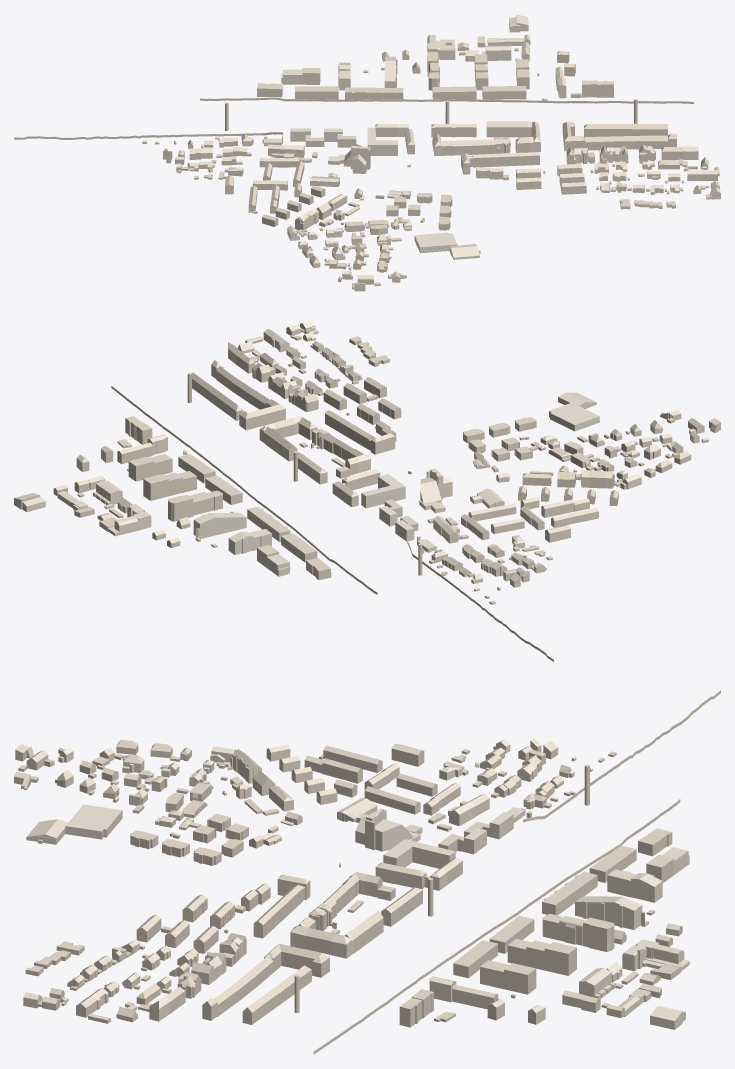
The picture shows the model from 3 angles, top to bottom: view 1: azimuth 30°, elevation 25°; view 2: azimuth 150°, elevation 25°; view 3: azimuth 270°, elevation 25°; orthographic projection. The views are drawn at different scales.
Bounding box in the file's own units: 831 × 49.91 × 664.
